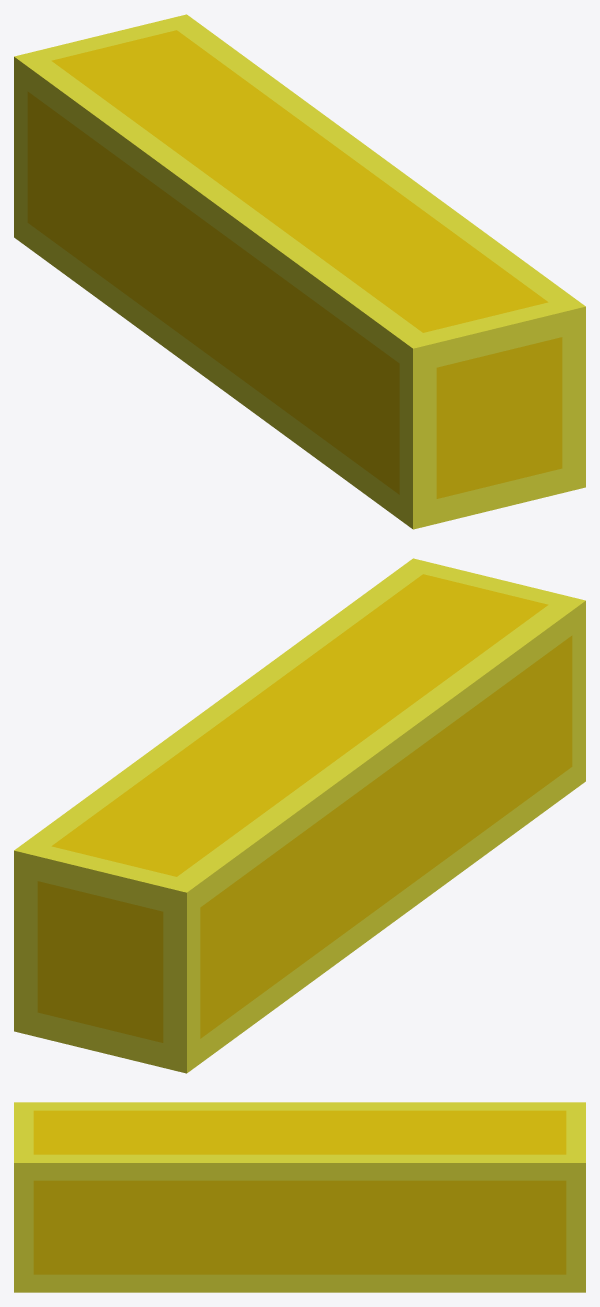
File: drag-block.glb
3 renders of one model, top to bottom at view 1: azimuth 30°, elevation 25°; view 2: azimuth 150°, elevation 25°; view 3: azimuth 270°, elevation 25°, orthographic. The views are drawn at different scales.
Visible parts, largest first — view 1: Cube.001, Cube; view 2: Cube.001, Cube; view 3: Cube.001, Cube.
Part boxes in pixels (box(x1,y1,x2,y2)): Cube.001: box(27, 30, 562, 498); Cube: box(14, 14, 585, 529); Cube.001: box(37, 574, 572, 1042); Cube: box(14, 558, 585, 1073); Cube.001: box(33, 1110, 566, 1274); Cube: box(14, 1102, 585, 1292).
Bounding box in the file's own units: 1 × 1 × 4.
